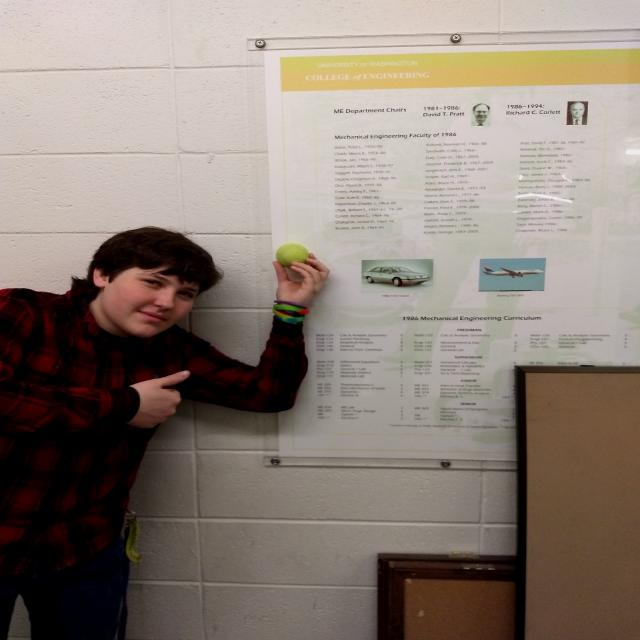tennis-ball: (272, 243, 312, 265)
